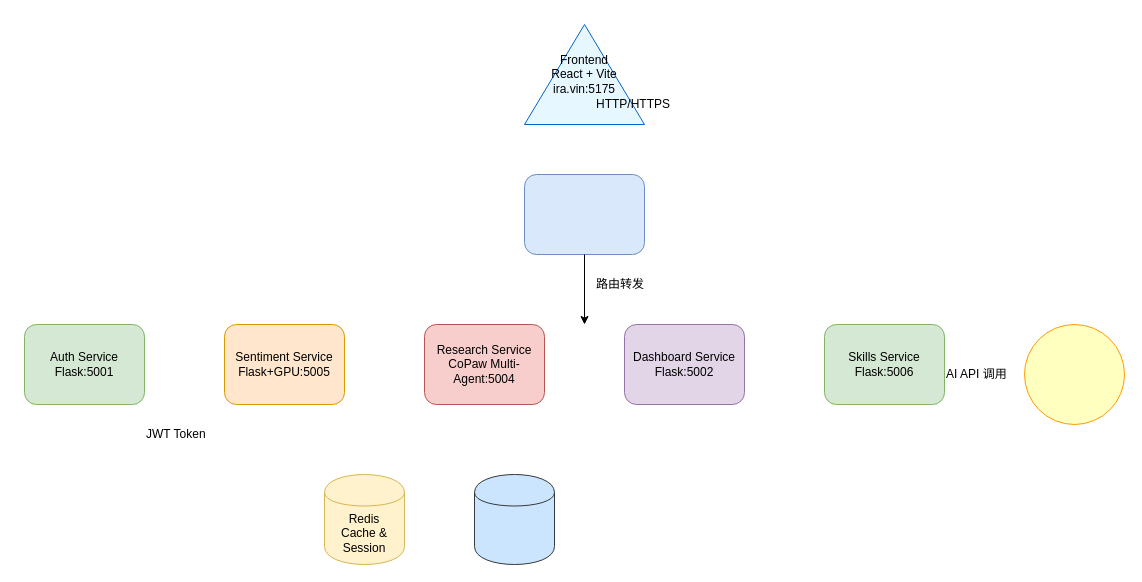
Some shapes in this 1142 by 582 pixel diagram are drawn without their labels. The centre of each missing label's shape, as x and y in pixels:
API Gateway nginx:8000: the point at 584,214
PostgreSQL Database: the point at 514,519
阿里云百炼 API DashScope: the point at 1074,374
